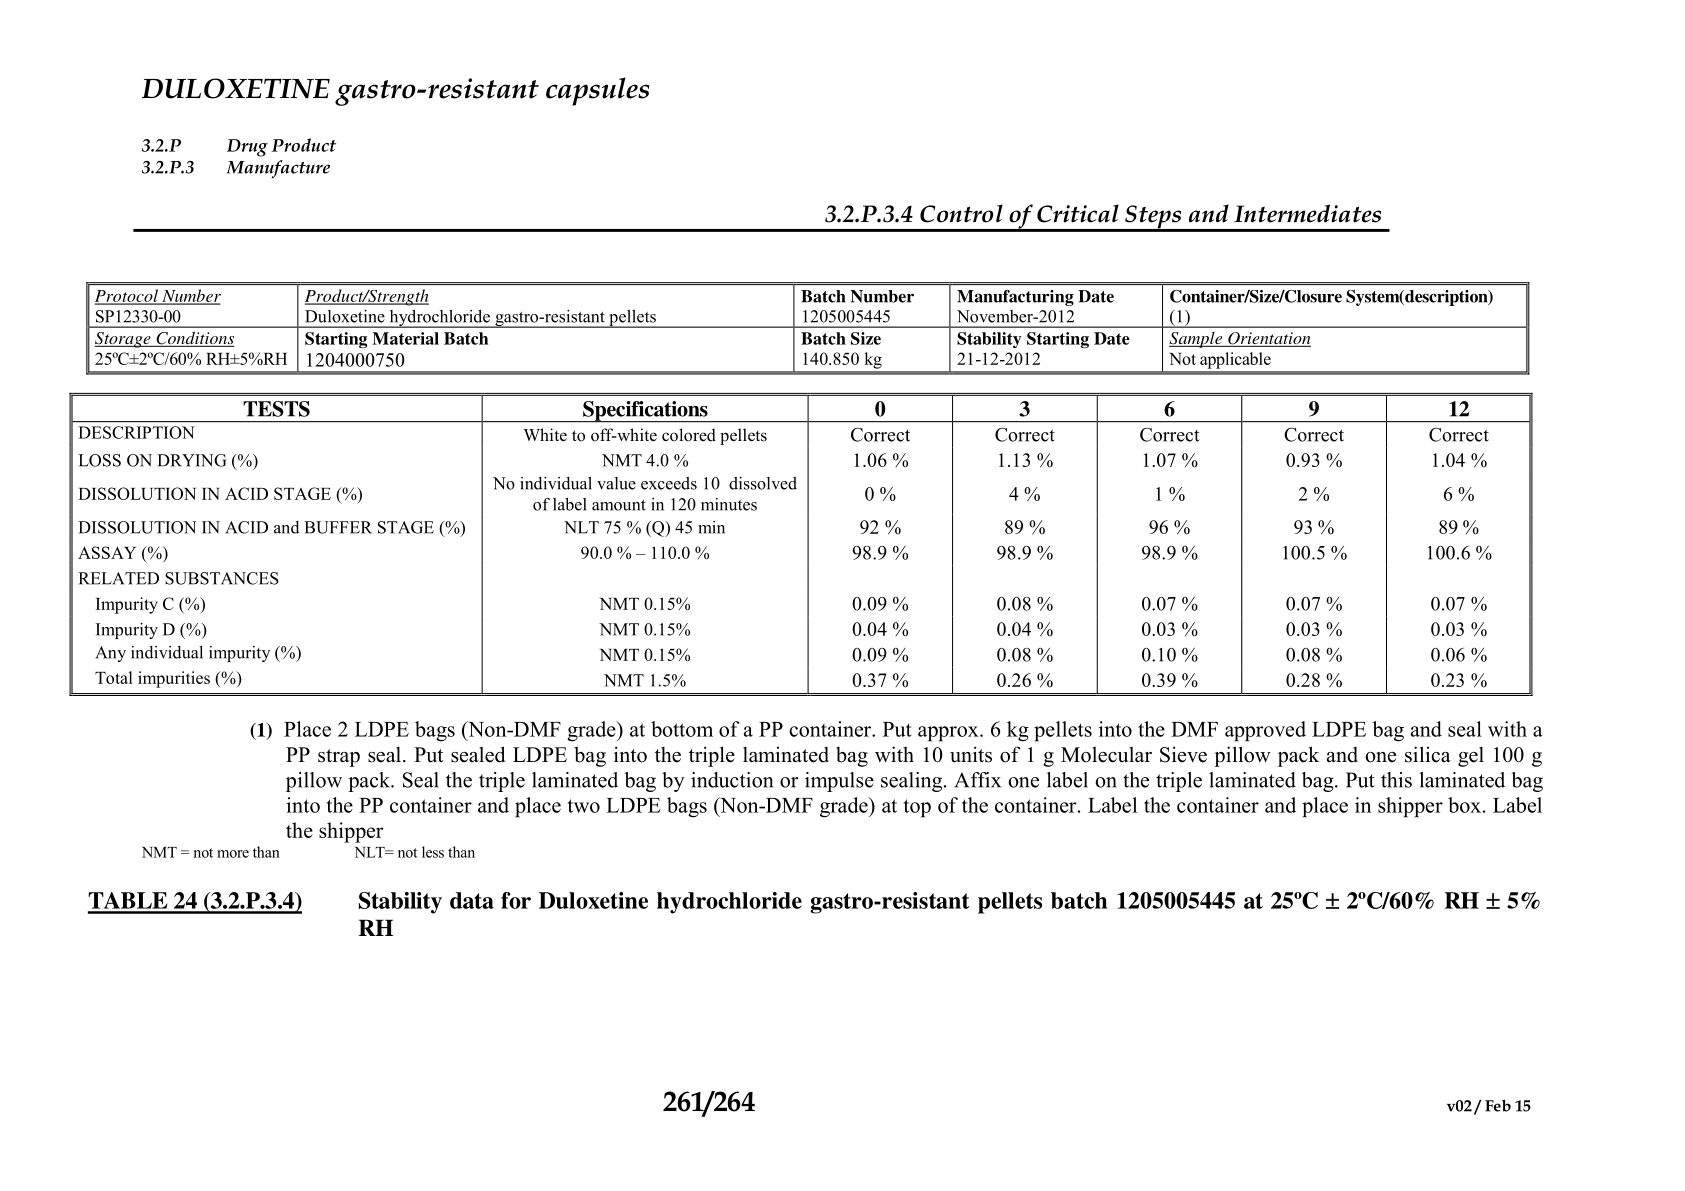full_lined: (85, 282, 1530, 375)
partial_lined: (68, 392, 1533, 696)
